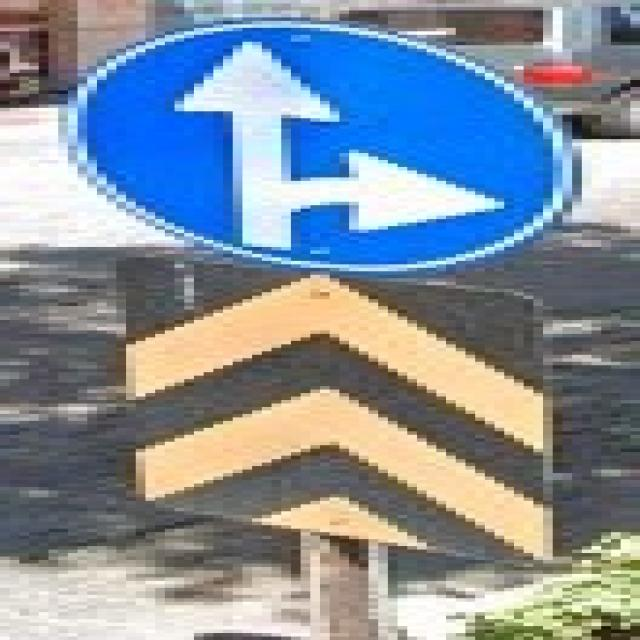Straight or Right: (64, 20, 568, 267)
